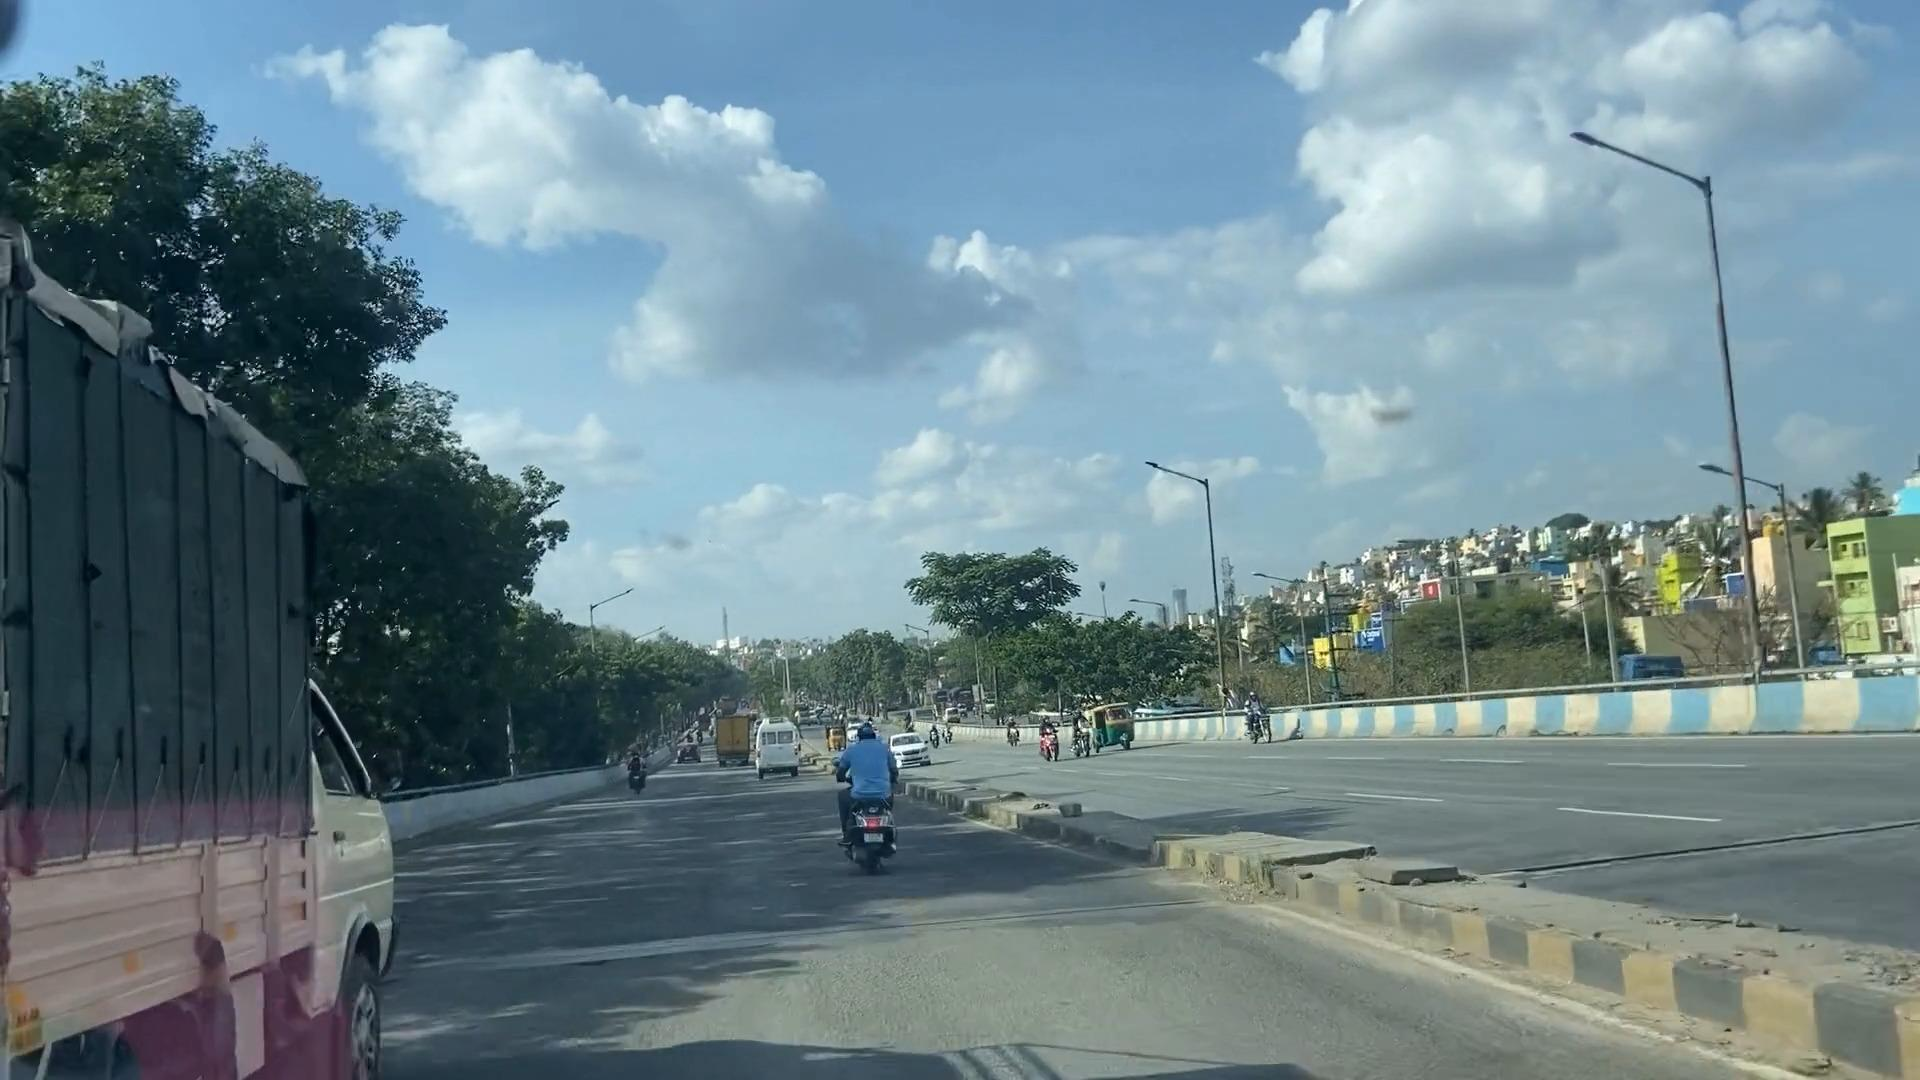HMV: (4, 234, 398, 1080)
LMV: (828, 710, 908, 877)
